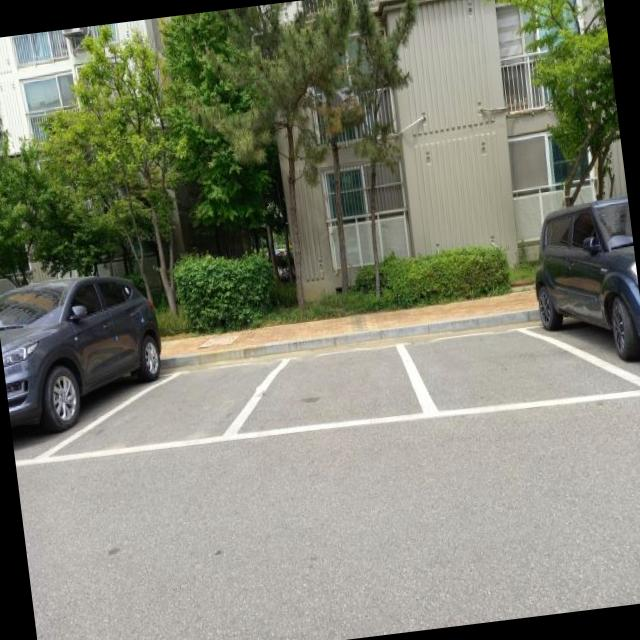car: (0, 267, 165, 433), (525, 202, 640, 362)
free: (36, 357, 295, 466), (394, 316, 640, 425), (216, 346, 424, 448)
